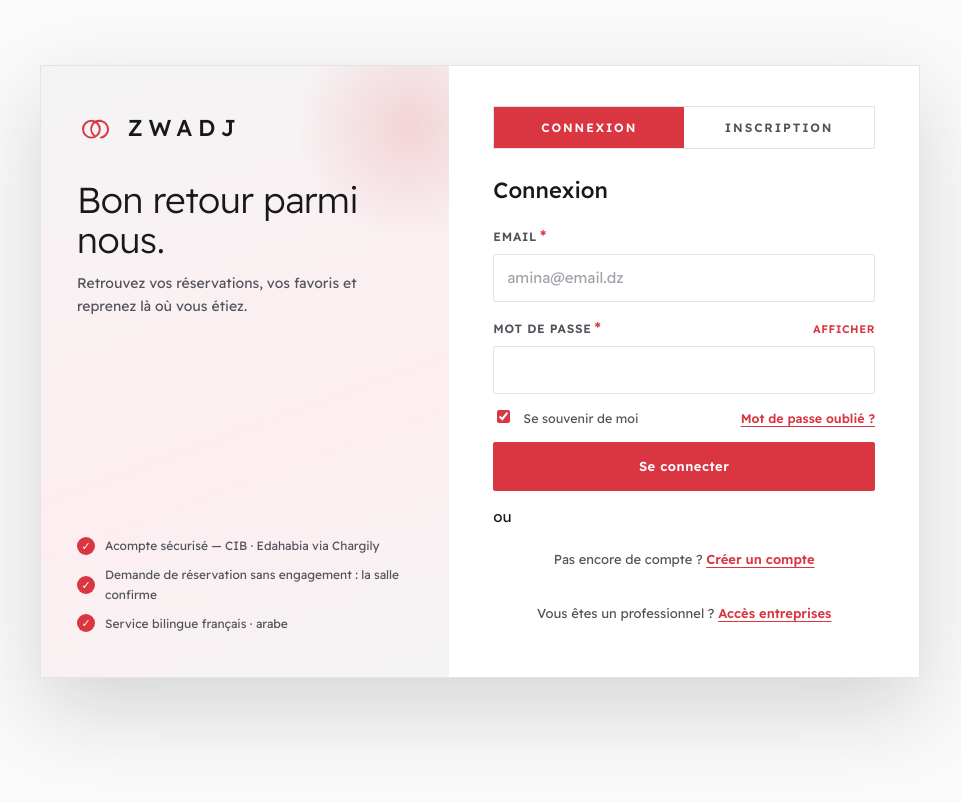
LoginForm (fr) › soumission vide : erreurs de validation partagées, AUCUN appel API
Click the button "Se connecter" at (684, 467), box [493,442,875,491]
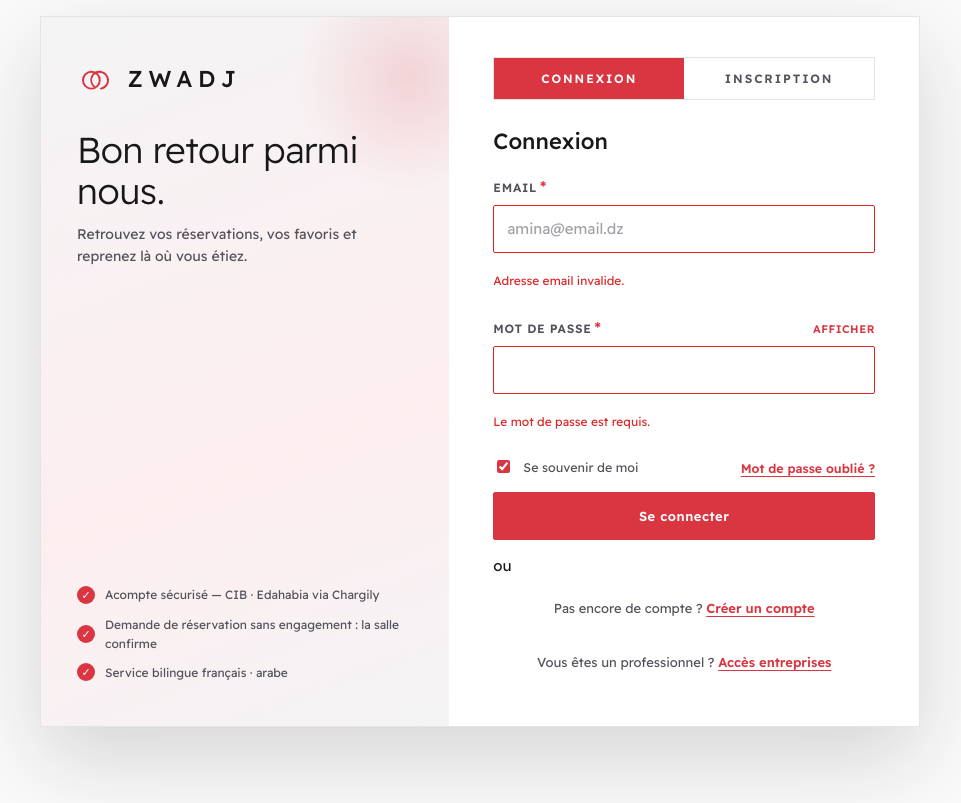
Now the text "Adresse email invalide." is shown, box [493,273,624,288]
Now the text "Le mot de passe est requis." is shown, box [493,414,650,430]
